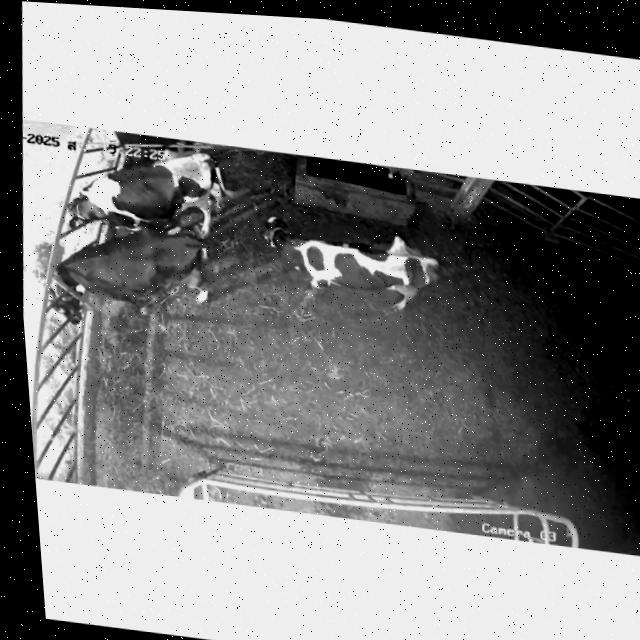stand: (252, 204, 455, 326)
